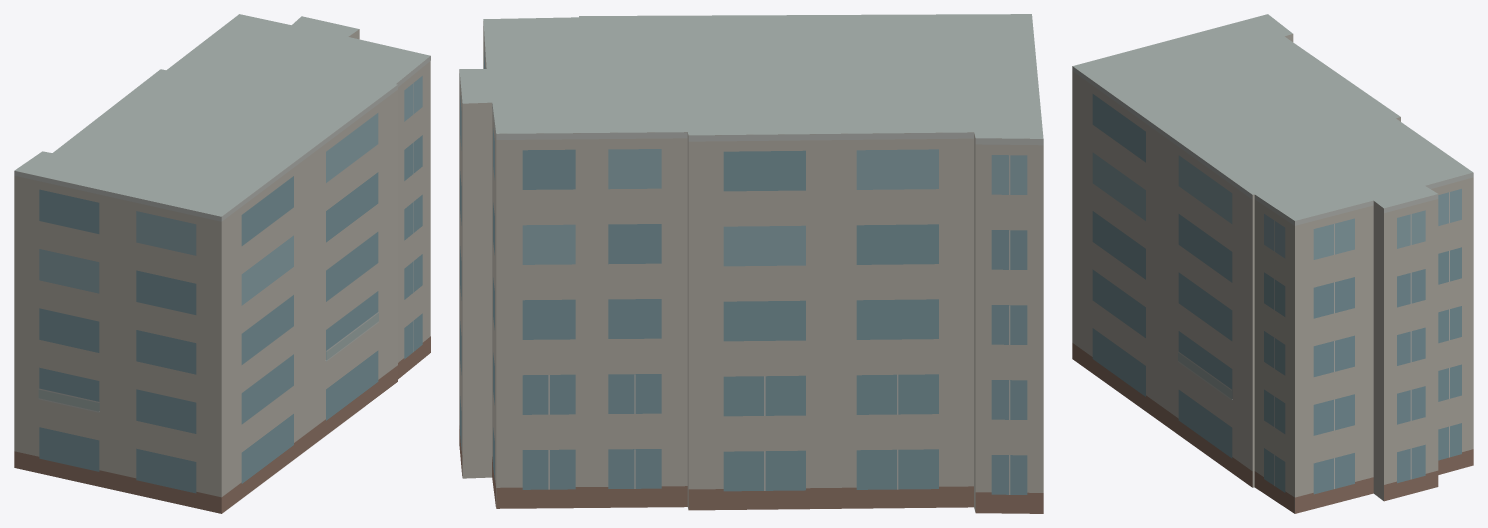
Rendered from survey-upis-32771191.glb.
The picture shows the model from 3 angles, left to right: view 1: azimuth 30°, elevation 25°; view 2: azimuth 150°, elevation 25°; view 3: azimuth 270°, elevation 25°; orthographic projection. The views are drawn at different scales.
Parts seen in each view (by area): view 1: survey-upis-32771191.tmp; view 2: survey-upis-32771191.tmp; view 3: survey-upis-32771191.tmp.
Part boxes in pixels (box(x1,y1,x2,y2)): survey-upis-32771191.tmp: box(14, 14, 430, 513); survey-upis-32771191.tmp: box(459, 14, 1043, 513); survey-upis-32771191.tmp: box(1072, 14, 1473, 513).
Bounding box in the file's own units: 22.13 × 14.6 × 18.13.
